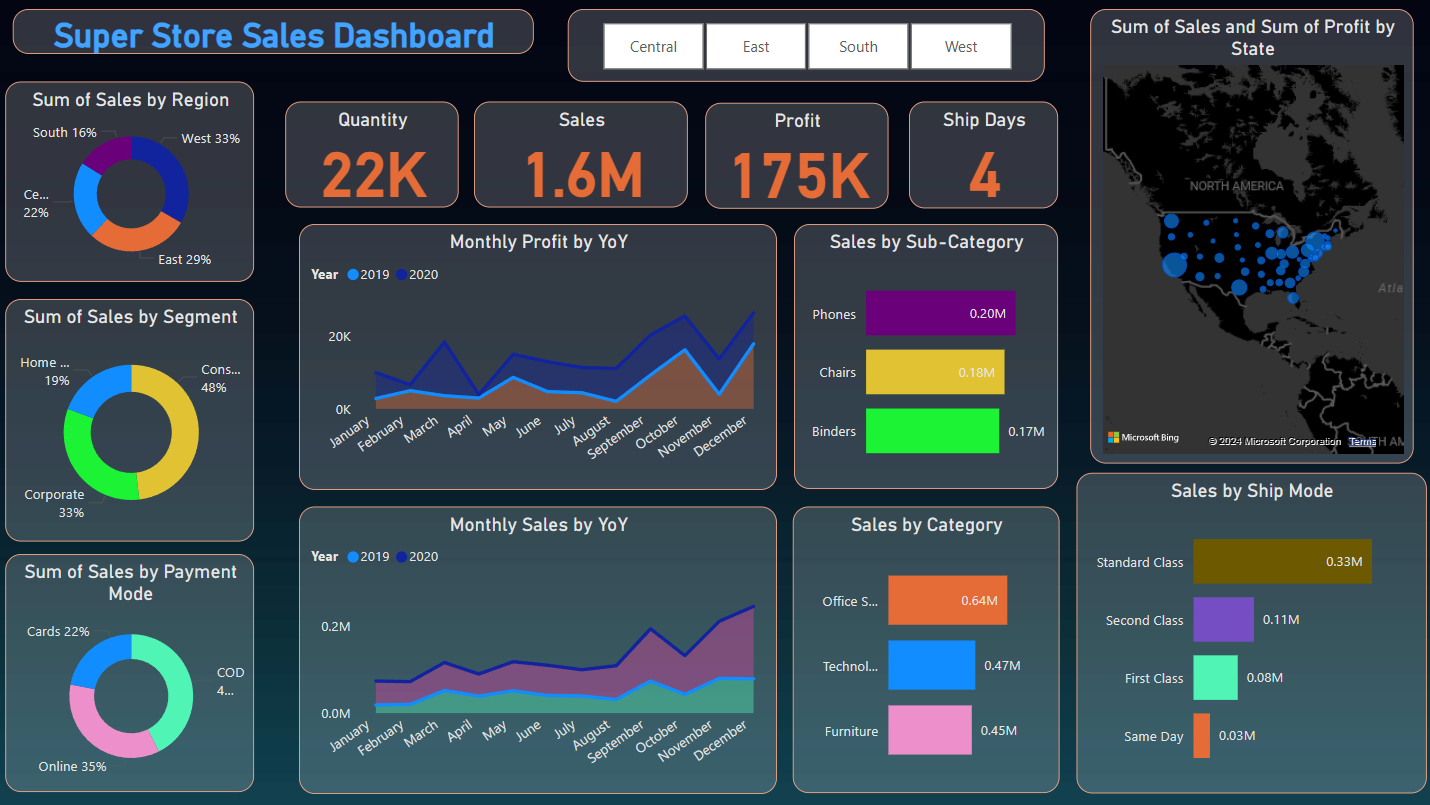

What the dashboard file says about the page in this screenshot:
{"tool":"powerbi","page":{"name":"Page 1","canvas":[1280,720],"ordinal":0},"visuals":[{"type":"barChart","title":" Sales by Category","fields":{"Category":["SuperStore_Sales_Dataset.Category"],"Y":["Sum(SuperStore_Sales_Dataset.Sales)"]},"box":[707.1,451.8,237.3,255.3],"z":0},{"type":"barChart","title":"Sales by Sub-Category","fields":{"Category":["SuperStore_Sales_Dataset.Sub-Category"],"Y":["Sum(SuperStore_Sales_Dataset.Sales)"]},"box":[708.3,200.1,234.9,236.1],"z":1000},{"type":"barChart","title":"Sales by Ship Mode","fields":{"Category":["SuperStore_Sales_Dataset.Ship Mode"],"Y":["Sum(SuperStore_Sales_Dataset.Sales)"]},"box":[960,421.9,311.6,285.2],"z":2000},{"type":"stackedAreaChart","title":"Monthly Sales by YoY","fields":{"Y":["Sum(SuperStore_Sales_Dataset.Sales)"],"Category":["SuperStore_Sales_Dataset.Order Date.Variation.Date Hierarchy.Month","SuperStore_Sales_Dataset.Order Date.Variation.Date Hierarchy.Day"],"Series":["SuperStore_Sales_Dataset.Order Date.Variation.Date Hierarchy.Year"]},"box":[266.6,452.4,425.9,255.8],"z":3000},{"type":"stackedAreaChart","title":"Monthly Profit by YoY","fields":{"Category":["SuperStore_Sales_Dataset.Order Date.Variation.Date Hierarchy.Month","SuperStore_Sales_Dataset.Order Date.Variation.Date Hierarchy.Day"],"Series":["SuperStore_Sales_Dataset.Order Date.Variation.Date Hierarchy.Year"],"Y":["Sum(SuperStore_Sales_Dataset.Profit)"]},"box":[266.6,200.3,425.9,236.5],"z":4000},{"type":"map","fields":{"Category":["SuperStore_Sales_Dataset.State"],"Size":["Sum(SuperStore_Sales_Dataset.Sales)"]},"box":[980.4,0,288.8,405.1],"z":5000},{"type":"donutChart","fields":{"Category":["SuperStore_Sales_Dataset.Segment"],"Y":["Sum(SuperStore_Sales_Dataset.Sales)"]},"box":[6,266.6,222,216],"z":6000},{"type":"donutChart","fields":{"Y":["Sum(SuperStore_Sales_Dataset.Sales)"],"Category":["SuperStore_Sales_Dataset.Payment Mode"]},"box":[6,494.6,222,212.3],"z":7000},{"type":"slicer","fields":{"Values":["SuperStore_Sales_Dataset.Region"]},"box":[506.7,8.4,424.7,65.1],"z":8000},{"type":"textbox","title":"Super Store Sales Dashboard","box":[12.1,0,464.5,49.5],"z":9000},{"type":"card","title":"Sales","fields":{"Values":["Sum(SuperStore_Sales_Dataset.Sales)"]},"box":[423.1,91.1,190.6,94.7],"z":10000},{"type":"card","title":"Profit","fields":{"Values":["Sum(SuperStore_Sales_Dataset.Profit)"]},"box":[629.2,92.3,163,94.7],"z":11000},{"type":"card","title":"Quantity","fields":{"Values":["Sum(SuperStore_Sales_Dataset.Quantity)"]},"box":[255.3,91.1,154.6,94.7],"z":12000},{"type":"card","title":"Ship Days","fields":{"Values":["Avg(SuperStore_Sales_Dataset.AvgDelivery)"]},"box":[810.7,91.7,132.7,95.3],"z":13000},{"type":"donutChart","fields":{"Y":["Sum(SuperStore_Sales_Dataset.Sales)"],"Category":["SuperStore_Sales_Dataset.Region"]},"box":[6,73.6,222,178.6],"z":14000}]}

Visuals, with their boxes in screenshot pixels (x1, y1, x2, y2), scaled from the page's 1280x720 canvas onto the 1430x805 screenshot:
" Sales by Category" barChart: [x1=790, y1=505, x2=1055, y2=791]
"Sales by Sub-Category" barChart: [x1=791, y1=224, x2=1054, y2=488]
"Sales by Ship Mode" barChart: [x1=1072, y1=472, x2=1421, y2=791]
"Monthly Sales by YoY" stackedAreaChart: [x1=298, y1=506, x2=774, y2=792]
"Monthly Profit by YoY" stackedAreaChart: [x1=298, y1=224, x2=774, y2=488]
map - SuperStore_Sales_Dataset.State x Sum(SuperStore_Sales_Dataset.Sales): [x1=1095, y1=0, x2=1418, y2=453]
donutChart - SuperStore_Sales_Dataset.Segment x Sum(SuperStore_Sales_Dataset.Sales): [x1=7, y1=298, x2=255, y2=540]
donutChart - Sum(SuperStore_Sales_Dataset.Sales) x SuperStore_Sales_Dataset.Payment Mode: [x1=7, y1=553, x2=255, y2=790]
slicer - SuperStore_Sales_Dataset.Region: [x1=566, y1=9, x2=1041, y2=82]
"Super Store Sales Dashboard" textbox: [x1=14, y1=0, x2=532, y2=55]
"Sales" card: [x1=473, y1=102, x2=686, y2=208]
"Profit" card: [x1=703, y1=103, x2=885, y2=209]
"Quantity" card: [x1=285, y1=102, x2=458, y2=208]
"Ship Days" card: [x1=906, y1=103, x2=1054, y2=209]
donutChart - Sum(SuperStore_Sales_Dataset.Sales) x SuperStore_Sales_Dataset.Region: [x1=7, y1=82, x2=255, y2=282]
